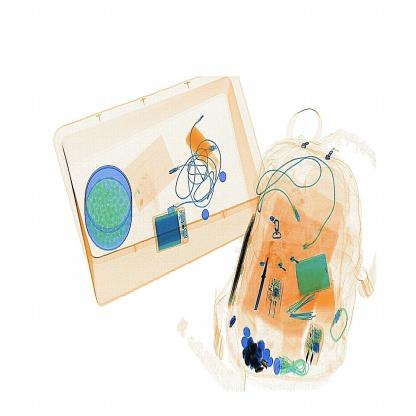gun: (254, 235, 274, 318)
